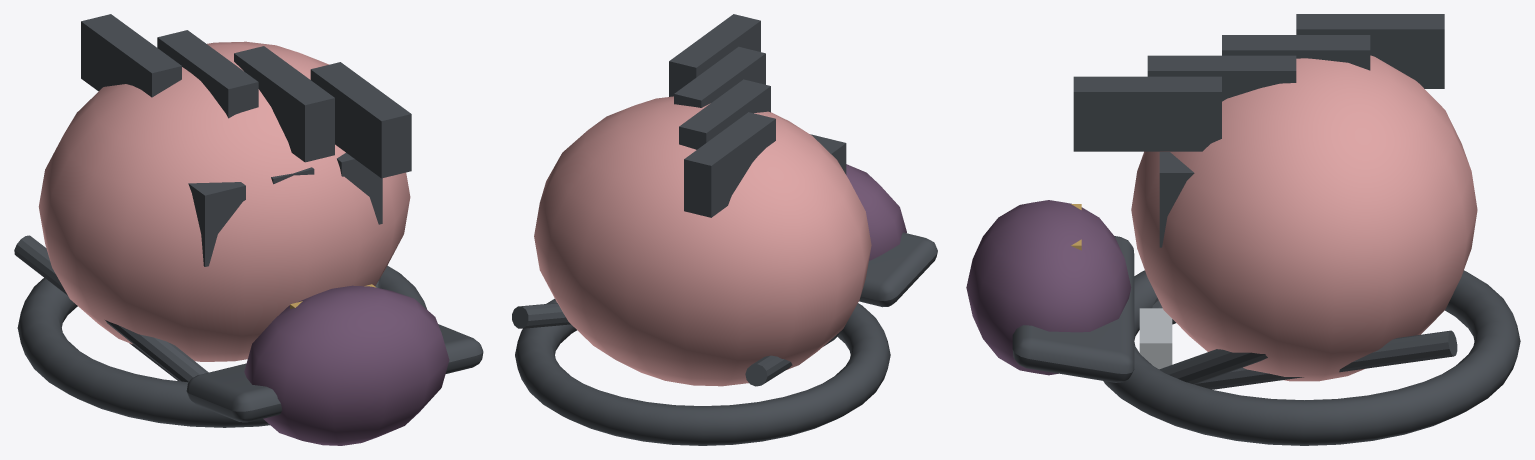
The model's file is helmet_c.glb.
The picture shows the model from 3 angles, left to right: view 1: azimuth 30°, elevation 25°; view 2: azimuth 150°, elevation 25°; view 3: azimuth 270°, elevation 25°; orthographic projection. The views are drawn at different scales.
Visible parts, largest first — view 1: Tint, Chin pad, Shell rim.002, Vent.011, Vent.010, Vent.008, Peak.002, Vent.009, Vent slot.006, Chin strap.008, Vent slot.008, Chin strap.009; view 2: Tint, Shell rim.002, Vent.008, Peak.002, Vent.011, Vent.009, Vent.010, Chin pad, Chin strap.011, Chin strap.009, Vent slot.006; view 3: Tint, Shell rim.002, Chin pad, Vent.011, Peak.002, Vent.008, Vent.010, Vent.009, Chin strap.011, Chin strap.010, Strap buckle.002, Vent slot.008.
Boxes of the visible parts, x1,y1,x2,y2 form: Tint: (38, 41, 410, 361); Chin pad: (244, 285, 449, 445); Shell rim.002: (17, 265, 426, 427); Vent.011: (310, 62, 411, 178); Vent.010: (234, 46, 334, 162); Vent.008: (81, 14, 181, 97); Peak.002: (186, 324, 483, 422); Vent.009: (157, 30, 258, 118); Vent slot.006: (188, 182, 245, 266); Chin strap.008: (105, 320, 208, 382); Vent slot.008: (337, 153, 382, 224); Chin strap.009: (14, 235, 178, 381); Tint: (534, 96, 871, 386); Shell rim.002: (515, 298, 890, 445); Vent.008: (684, 112, 775, 217); Peak.002: (859, 232, 937, 307); Vent.011: (669, 14, 760, 96); Vent.009: (679, 79, 770, 149); Vent.010: (674, 46, 765, 107); Chin pad: (846, 164, 906, 260); Chin strap.011: (512, 303, 570, 328); Chin strap.009: (745, 337, 836, 386); Vent slot.006: (810, 134, 846, 174); Tint: (1131, 55, 1477, 381); Shell rim.002: (1103, 270, 1520, 445); Chin pad: (966, 200, 1131, 375); Vent.011: (1073, 76, 1221, 151); Peak.002: (1012, 236, 1134, 382); Vent.008: (1296, 14, 1444, 88); Vent.010: (1147, 55, 1296, 101); Vent.009: (1222, 35, 1370, 70); Chin strap.011: (1195, 330, 1457, 389); Chin strap.010: (1159, 349, 1267, 384); Strap buckle.002: (1139, 308, 1172, 369); Vent slot.008: (1159, 152, 1194, 247).
Size of the model in its own units: 0.2622 by 0.2075 by 0.3361.
